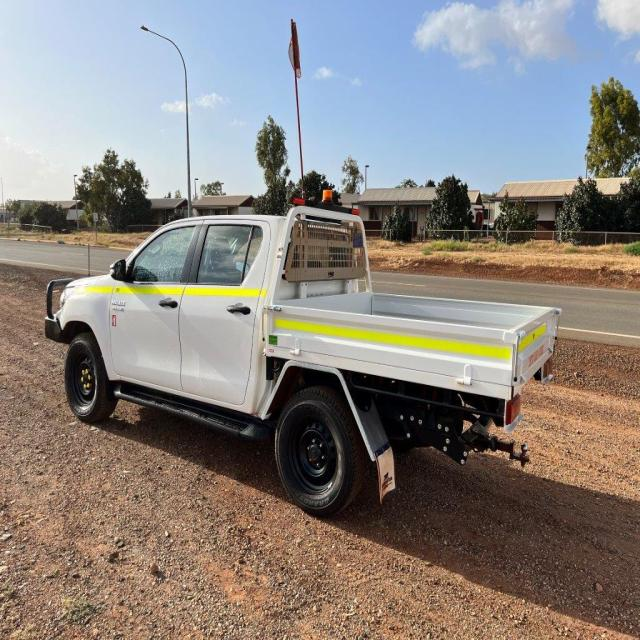light_vehicle: (40, 193, 572, 526)
